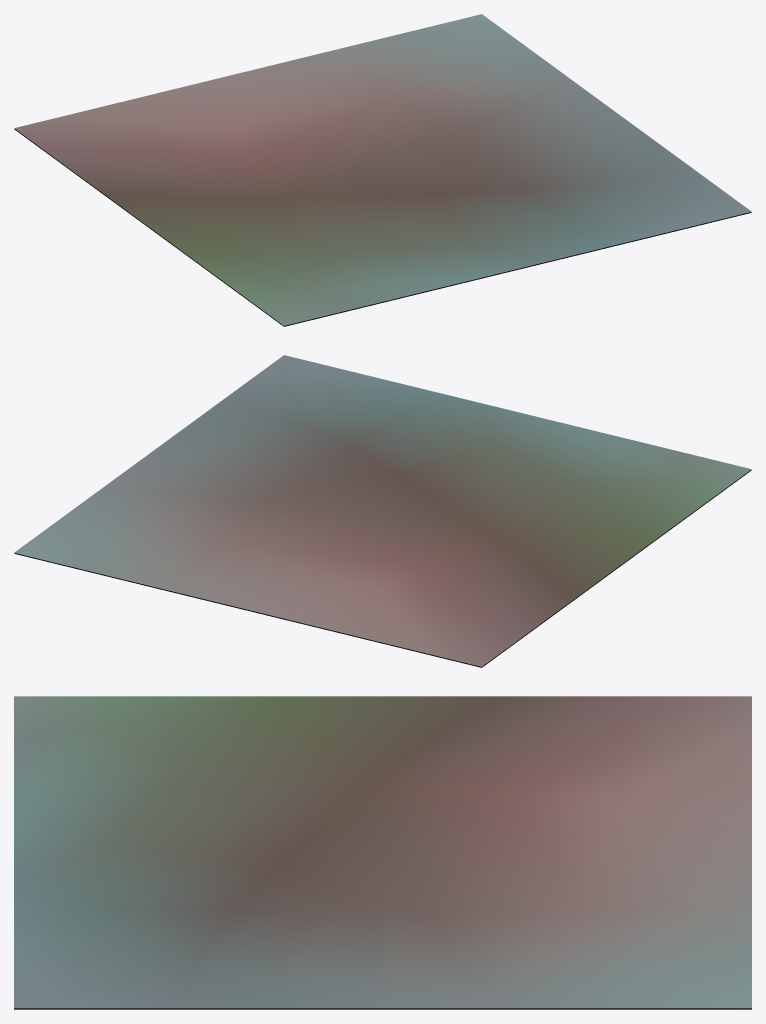
3 views of the same model, one above another, from view 1: azimuth 30°, elevation 25°; view 2: azimuth 150°, elevation 25°; view 3: azimuth 270°, elevation 25° (orthographic). The views are drawn at different scales.
Visible parts, largest first — view 1: G:\FFXIV-MapTools\exports\r2f1\bg\ex1\01_roc_r2\fld\r2f1\bgp (×2); view 2: G:\FFXIV-MapTools\exports\r2f1\bg\ex1\01_roc_r2\fld\r2f1\bgp (×2); view 3: G:\FFXIV-MapTools\exports\r2f1\bg\ex1\01_roc_r2\fld\r2f1\bgp (×2).
Boxes of the visible parts, x1=… form: G:\FFXIV-MapTools\exports\r2f1\bg\ex1\01_roc_r2\fld\r2f1\bgp (×2): x1=14, y1=14, x2=751, y2=326; G:\FFXIV-MapTools\exports\r2f1\bg\ex1\01_roc_r2\fld\r2f1\bgp (×2): x1=14, y1=355, x2=751, y2=667; G:\FFXIV-MapTools\exports\r2f1\bg\ex1\01_roc_r2\fld\r2f1\bgp (×2): x1=14, y1=696, x2=751, y2=1009.
Size of the model in its own units: 128 by 0.25 by 128.
